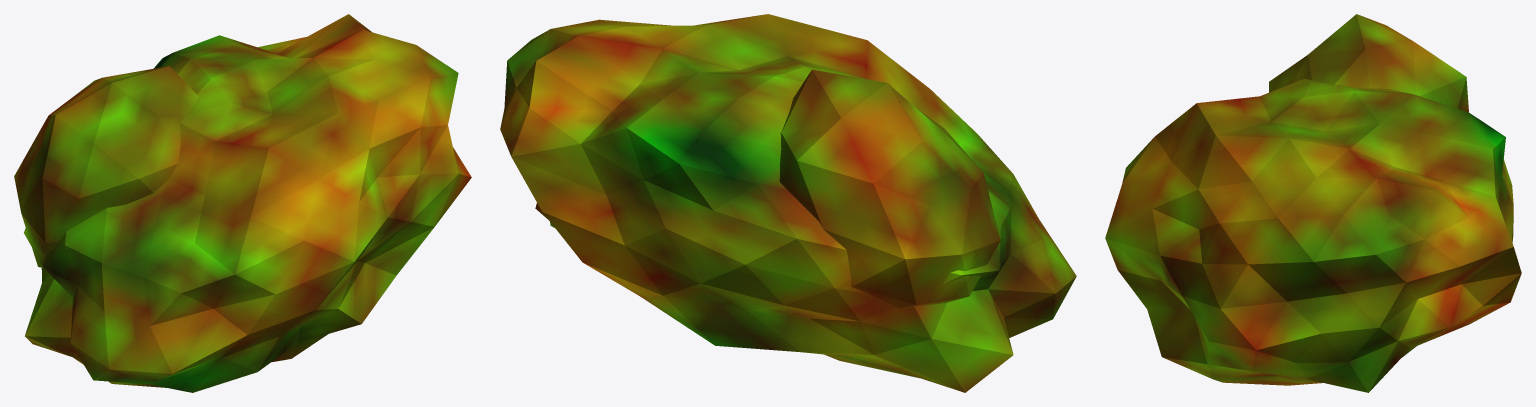
The model's file is 小型金矿_01_扁砾.fbx.
The picture shows the model from 3 angles, left to right: view 1: azimuth 30°, elevation 25°; view 2: azimuth 150°, elevation 25°; view 3: azimuth 270°, elevation 25°; orthographic projection. The views are drawn at different scales.
Parts seen in each view (by area): view 1: GoldOre_Small_01; view 2: GoldOre_Small_01; view 3: GoldOre_Small_01.
Boxes of the visible parts, <box> form: GoldOre_Small_01: <box>14,14,471,392</box>; GoldOre_Small_01: <box>500,14,1076,392</box>; GoldOre_Small_01: <box>1105,14,1521,392</box>.
Size of the model in its own units: 0.68 by 0.4 by 0.5019.
